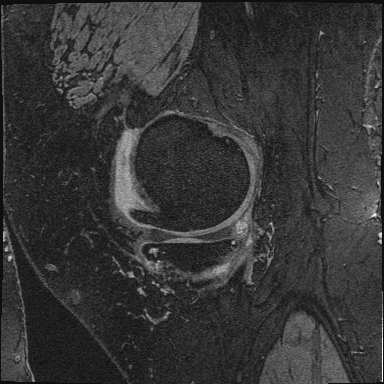effusion: (115, 136, 138, 211)
